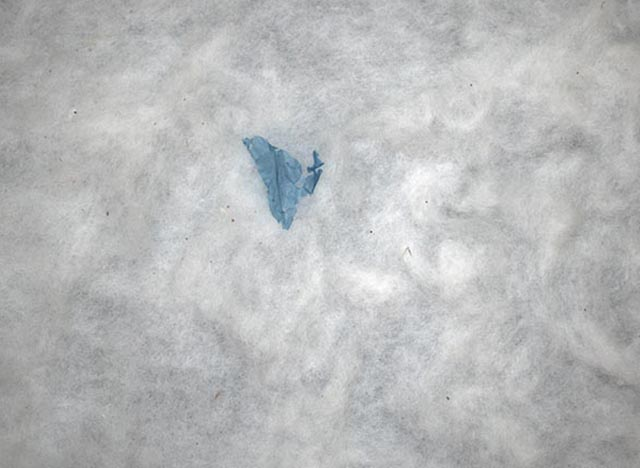plastic film: (241, 135, 323, 231)
